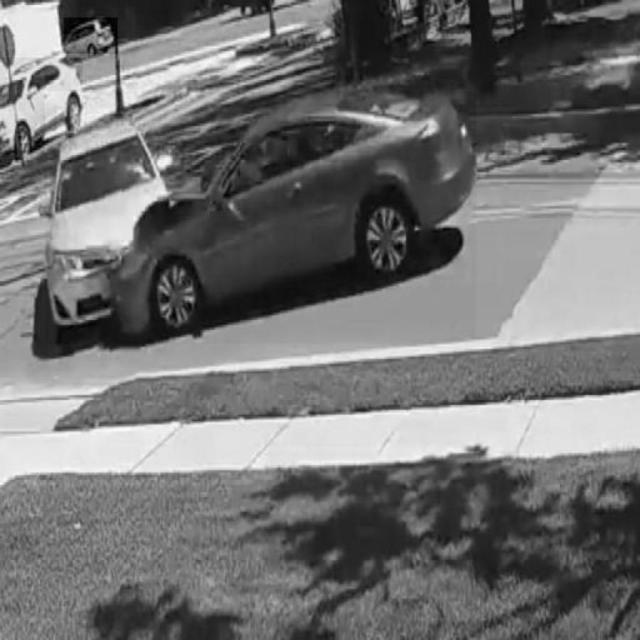accident: (46, 91, 477, 343)
vehicle: (0, 58, 82, 154), (64, 18, 118, 54)
